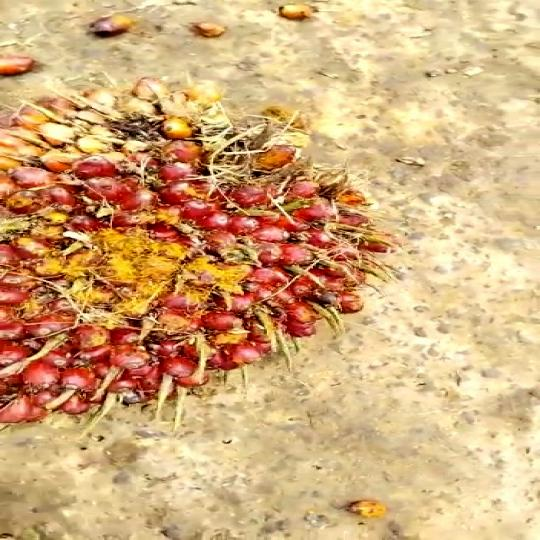kurang masak: (0, 83, 373, 447)
